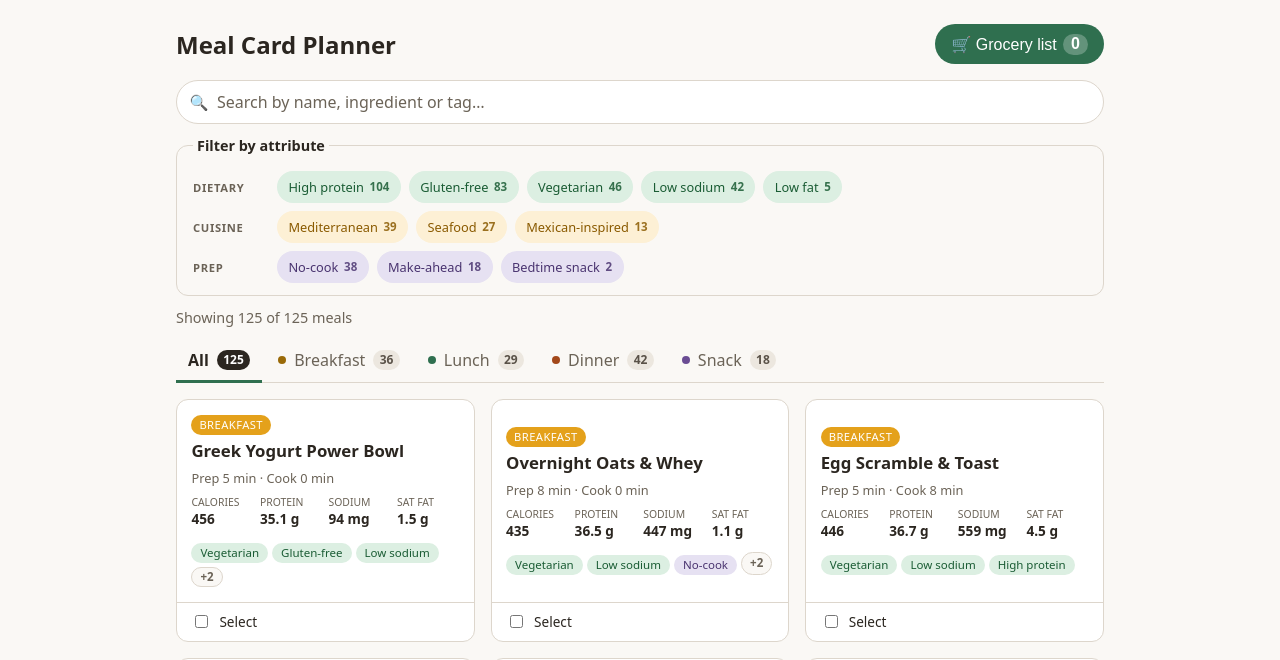
Scenario: App integration › toggling a tag highlights it on tiles and lists it as active
The image size is (1280, 660).
Click the button with aria-label "Cuisine: Seafood": (462, 227) [416,211,507,243]
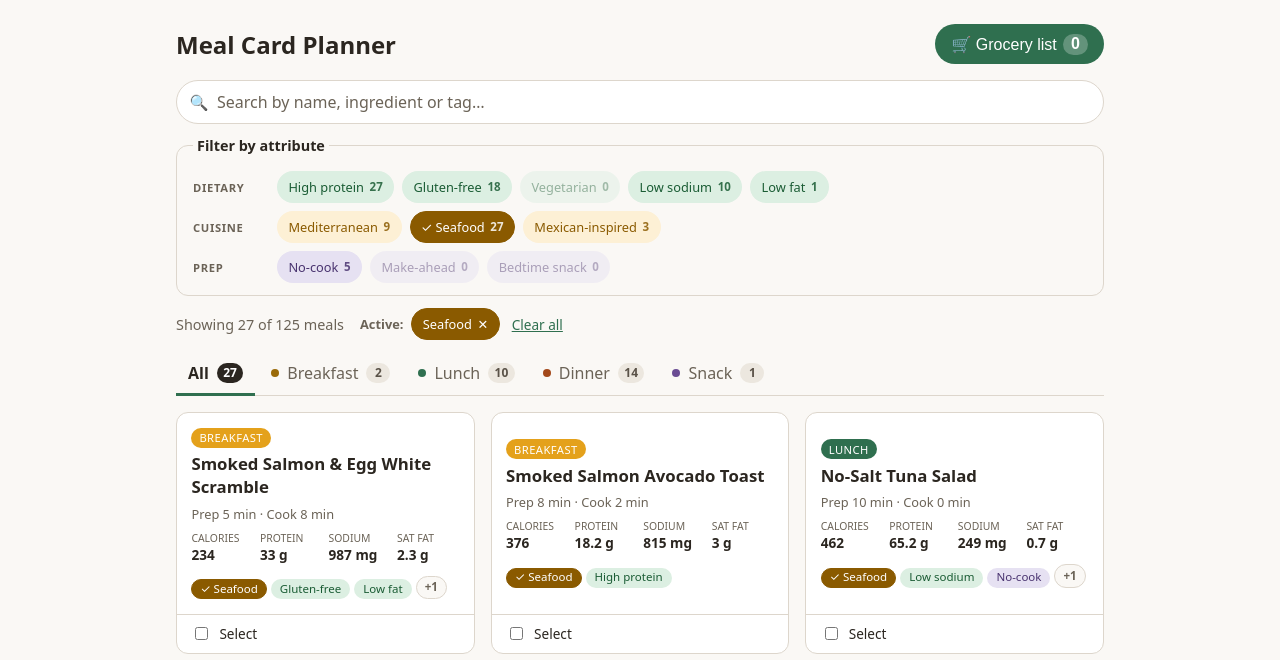
Check: the 3rd element with class "tag-chip" reads "Seafood", box [214,581,258,596]
Check: the button with aria-label "Remove Seafood filter" is shown, box [411,308,500,340]
